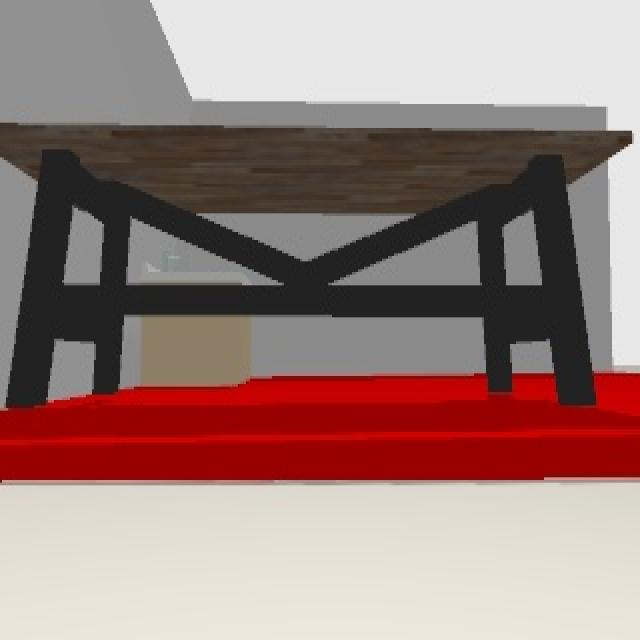dining: (0, 121, 636, 402)
